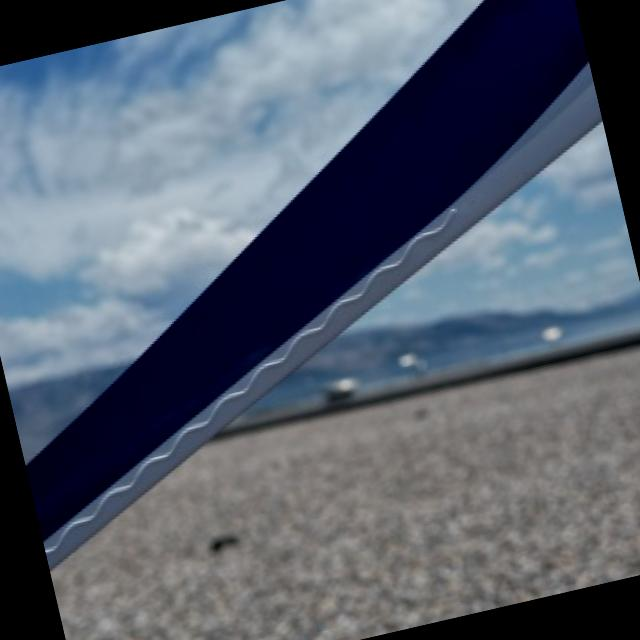healthy: (285, 298, 637, 400), (352, 372, 590, 509)
